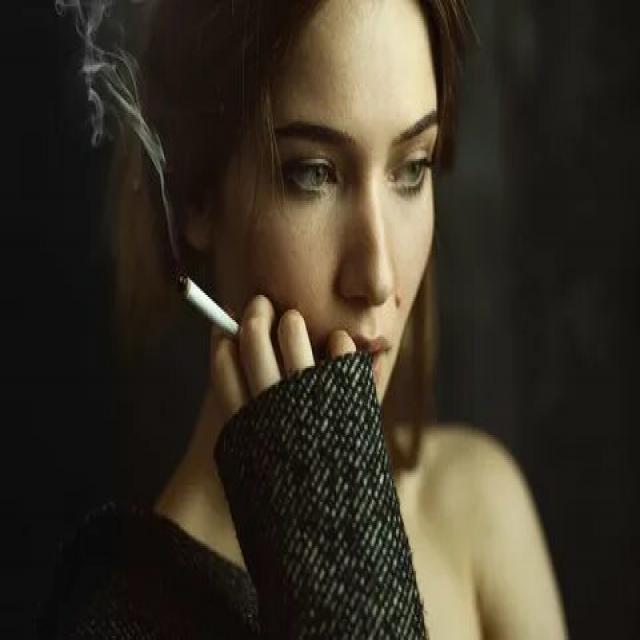cigarette: (175, 268, 245, 343)
